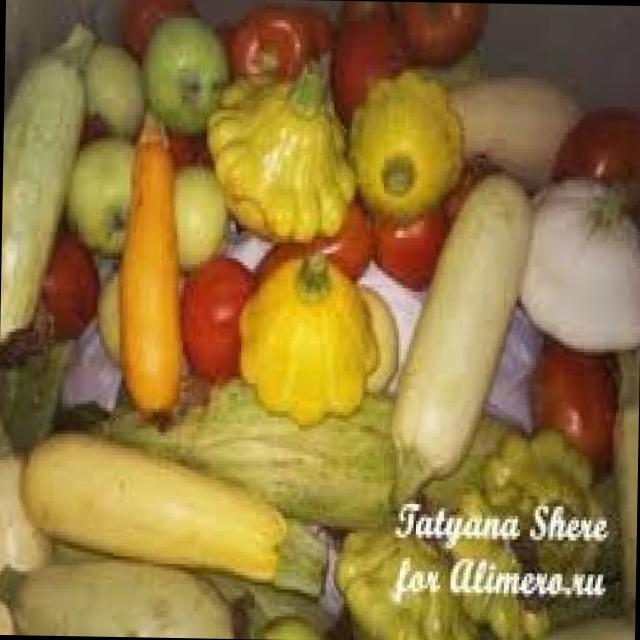Tomato: (526, 332, 626, 474), (545, 95, 640, 221), (180, 260, 263, 394), (33, 232, 120, 344), (215, 0, 333, 81), (370, 1, 503, 67), (314, 0, 399, 82), (111, 0, 196, 58)
squash-patisson: (446, 424, 622, 634), (231, 223, 380, 427), (210, 60, 361, 244), (321, 481, 487, 640), (337, 71, 474, 247), (512, 172, 640, 352)
vegetable marrow: (0, 421, 352, 617), (375, 135, 546, 528), (0, 0, 109, 353), (109, 101, 196, 439), (0, 543, 247, 638), (448, 53, 602, 174), (148, 17, 240, 132)
